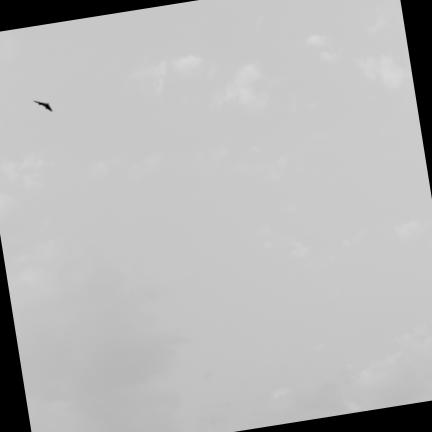Shahed: (34, 101, 51, 111)
